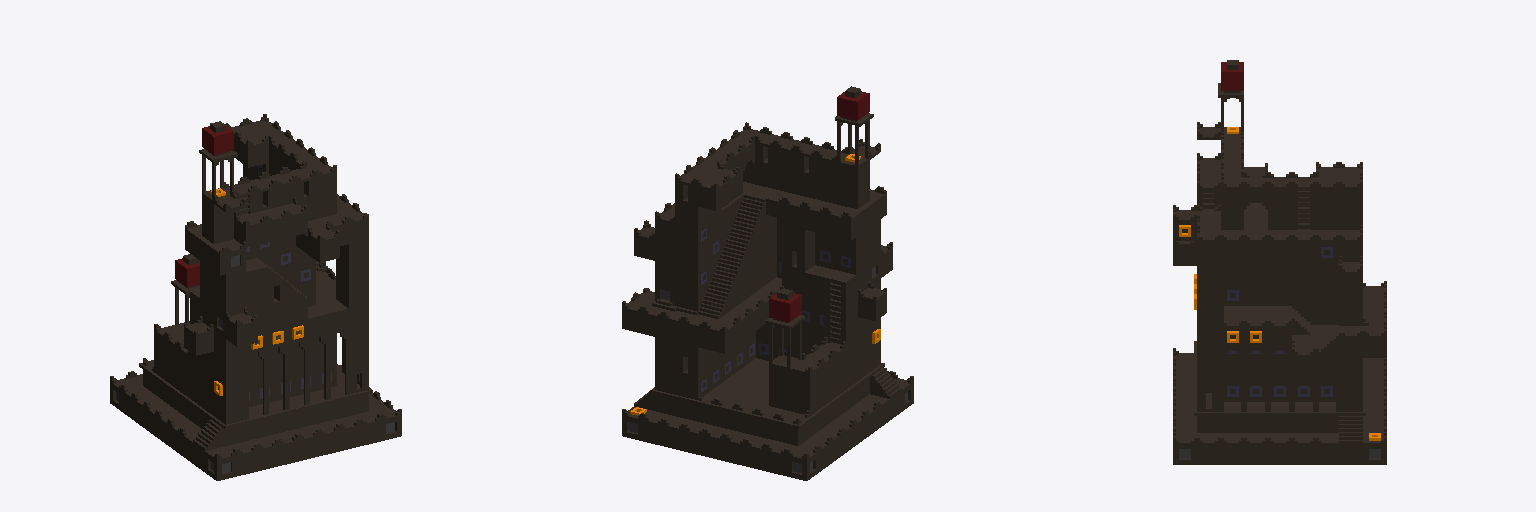
3 renders of one model, left to right at view 1: azimuth 30°, elevation 25°; view 2: azimuth 150°, elevation 25°; view 3: azimuth 270°, elevation 25°, orthographic.
Parts seen in each view (by area): view 1: CastleBit; view 2: CastleBit; view 3: CastleBit.
Part boxes in pixels (x1,y1,x2,y2): CastleBit: (110, 114, 401, 480); CastleBit: (622, 86, 913, 480); CastleBit: (1173, 60, 1386, 464).
Size of the model in its own units: 72 by 122 by 72.
1 materials, 1 textured.